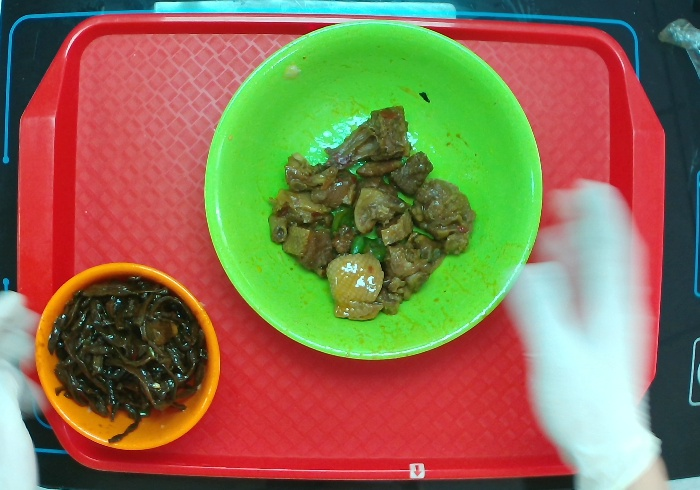YKMZ-Ju_Se_Yuan_Wan: (26, 259, 223, 455)
YKMZ-Lv_Se_Tang_Wan: (199, 15, 547, 366)
